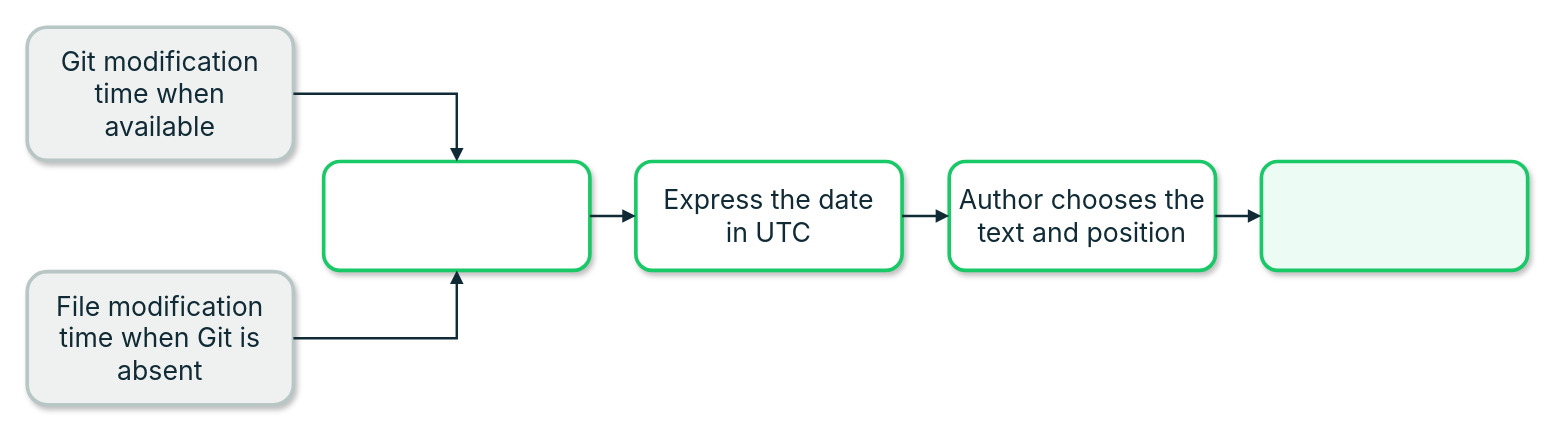
Image size: 1557x436. Some labels were removed from this diagram. The shapes that lost their labels are listed below. From the top down, each one's centre as x and y in pixels, then its label:
At [457,217]: "Select the page's modification time".
At [1395,217]: "Updated date in the website and/or PDF".
